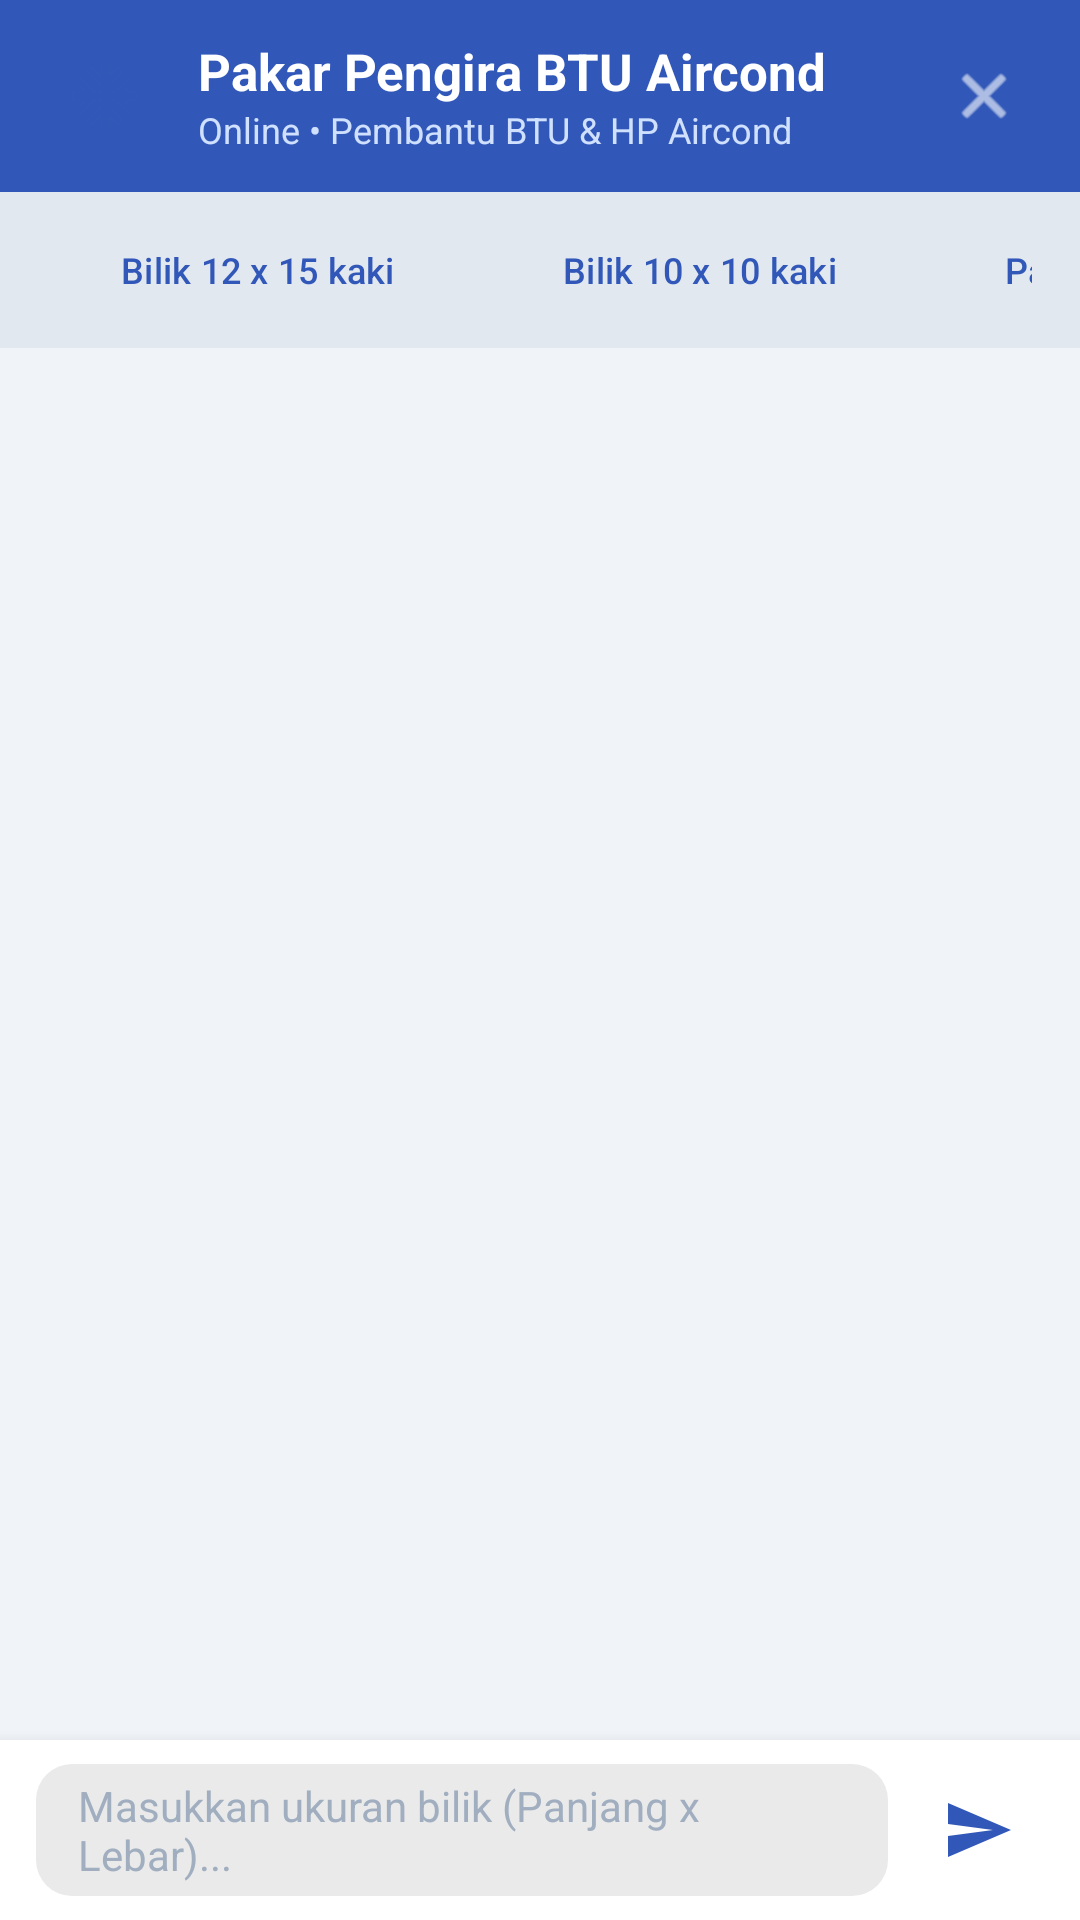

Named icons in this screenshot (1080*1920) and their bounding boxes, {"x1": x1, "y1": y1, "x2": x2, "y2": y2}:
close clear cancel: {"x1": 961, "y1": 73, "x2": 1007, "y2": 119}
send: {"x1": 948, "y1": 1803, "x2": 1011, "y2": 1857}
